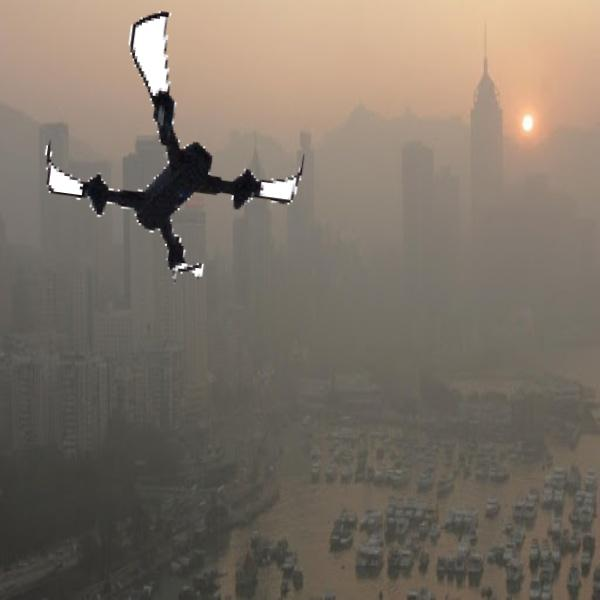drone: (33, 6, 318, 291)
